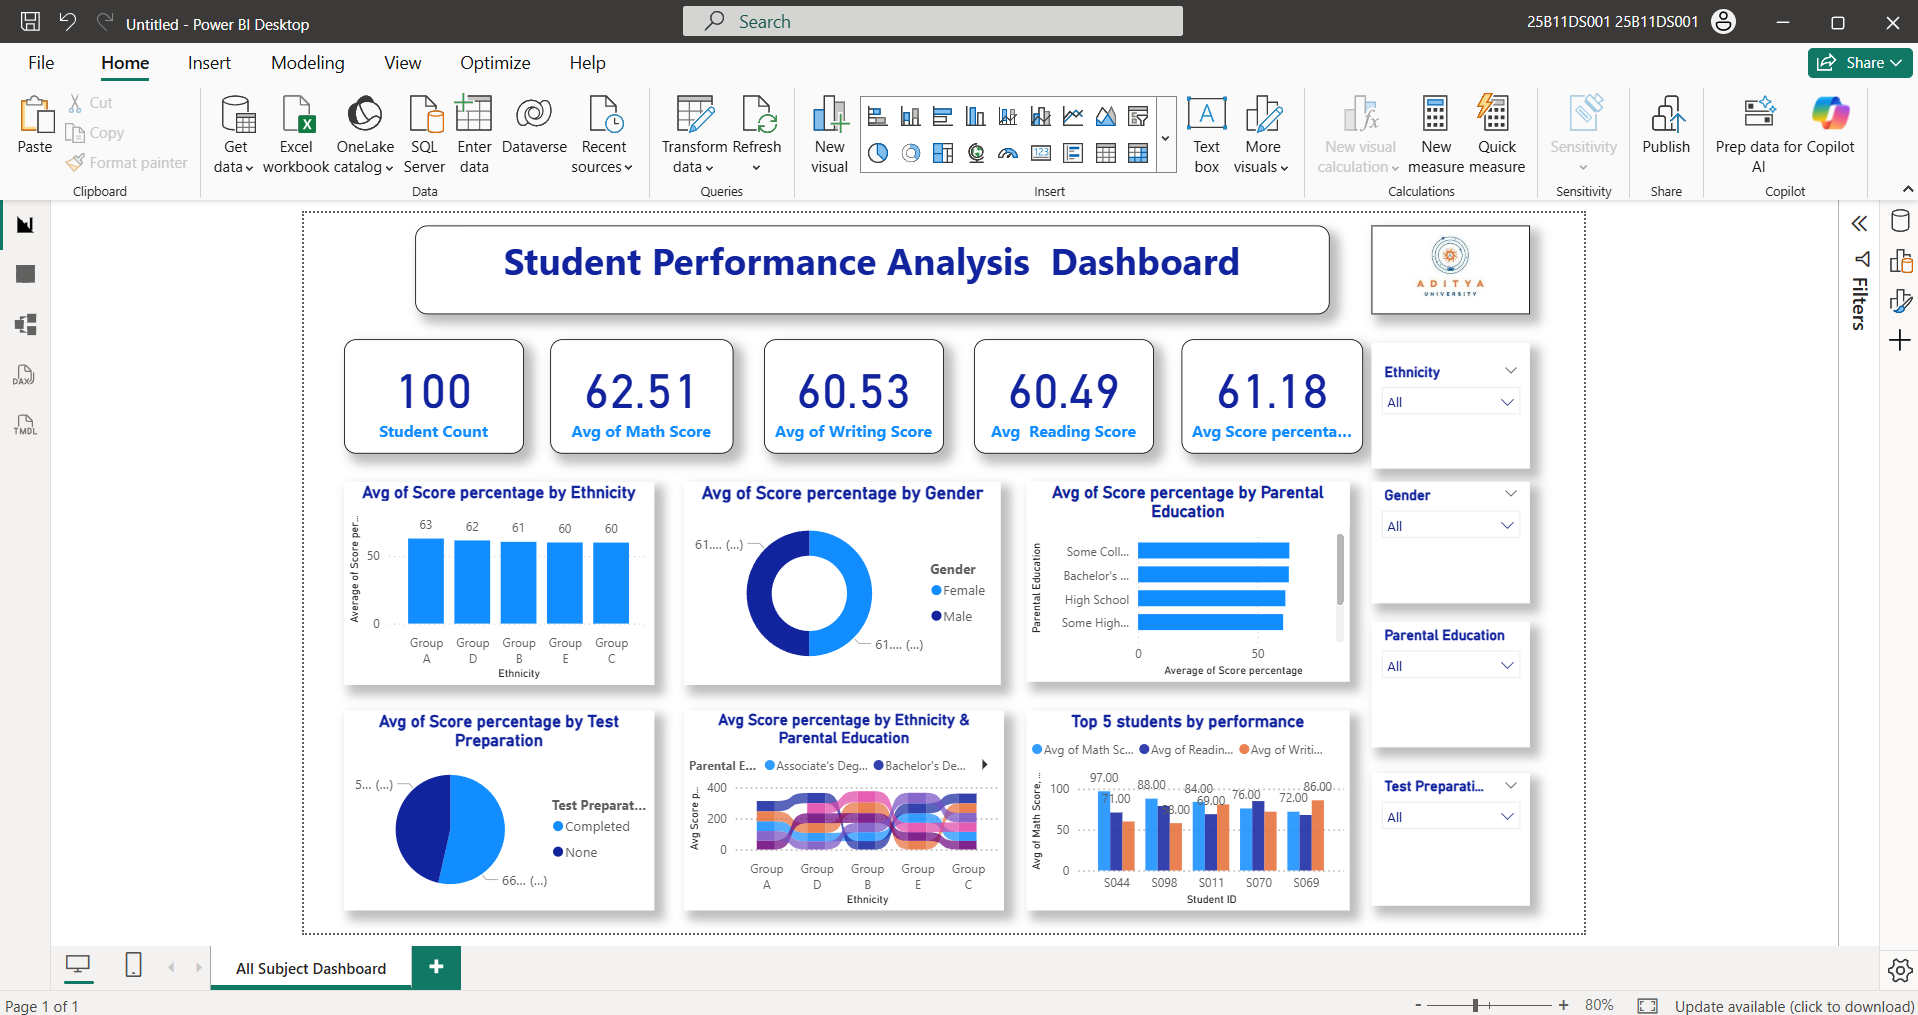

The dashboard page shown, as its layout file describes it:
{"tool":"powerbi","page":{"name":"All Subject Dashboard","canvas":[1280,720],"ordinal":0},"visuals":[{"type":"textbox","box":[111.4,12.9,914.3,88.6],"z":0},{"type":"image","box":[1067.1,12.9,158.6,88.6],"z":1000},{"type":"card","fields":{"Values":["Count(Marks.Student ID)"]},"box":[40,125.7,180,114.3],"z":2000},{"type":"card","fields":{"Values":["Avg(Marks.Score percentage)"]},"box":[877.1,125.7,181.4,114.3],"z":3000},{"type":"card","fields":{"Values":["Avg(Marks.Reading Score)"]},"box":[670,125.7,180,114.3],"z":4000},{"type":"card","fields":{"Values":["Avg(Marks.Writing Score)"]},"box":[460,125.7,180,114.3],"z":5000},{"type":"card","fields":{"Values":["Avg(Marks.Math Score)"]},"box":[245.7,125.7,182.9,114.3],"z":6000},{"type":"slicer","fields":{"Values":["Marks.Ethnicity"]},"box":[1067.1,130,158.6,125.7],"z":7000},{"type":"slicer","fields":{"Values":["Marks.Gender"]},"box":[1067.1,268.6,158.6,121.4],"z":8000},{"type":"columnChart","title":"Avg of Score percentage by Ethnicity","fields":{"Category":["Marks.Ethnicity"],"Y":["Avg(Marks.Score percentage)"]},"box":[40,268.6,310,202.9],"z":8001},{"type":"clusteredBarChart","title":"Avg of Score percentage by Parental Education","fields":{"Category":["Marks.Parental Education"],"Y":["Avg(Marks.Score percentage)"]},"box":[722.9,268.6,322.9,200],"z":8002},{"type":"donutChart","title":"Avg of Score percentage by Gender","fields":{"Category":["Marks.Gender"],"Y":["Avg(Marks.Score percentage)"]},"box":[380,268.6,317.1,202.9],"z":8003},{"type":"slicer","fields":{"Values":["Marks.Parental Education"]},"box":[1067.1,408.6,158.6,125.7],"z":8004},{"type":"pieChart","title":"Avg of Score percentage by Test Preparation","fields":{"Category":["Marks.Test Preparation"],"Y":["Avg(Marks.Score percentage)"]},"box":[40,497.1,310,200],"z":8005},{"type":"ribbonChart","title":"Avg Score percentage by Ethnicity & Parental Education","fields":{"Category":["Marks.Ethnicity"],"Series":["Marks.Parental Education"],"Y":["Avg(Marks.Score percentage)"]},"box":[380,497.1,320,200],"z":8006},{"type":"slicer","fields":{"Values":["Marks.Test Preparation"]},"box":[1067.1,560,158.6,132.9],"z":8007},{"type":"clusteredColumnChart","title":"Top 5 students by performance","fields":{"Category":["Marks.Student ID"],"Y":["Avg(Marks.Math Score)","Avg(Marks.Reading Score)","Avg(Marks.Writing Score)"]},"box":[722.9,497.1,322.9,200],"z":8008}]}

Visuals, with their boxes on the page's 1280x720 design canvas (x1, y1, x2, y2). These are canvas units, not pixel positions in the 1918x1015 screenshot, which may show the page scaled, cropped or inside an application window:
textbox: {"x1": 111, "y1": 13, "x2": 1026, "y2": 102}
image: {"x1": 1067, "y1": 13, "x2": 1226, "y2": 102}
card - Count(Marks.Student ID): {"x1": 40, "y1": 126, "x2": 220, "y2": 240}
card - Avg(Marks.Score percentage): {"x1": 877, "y1": 126, "x2": 1058, "y2": 240}
card - Avg(Marks.Reading Score): {"x1": 670, "y1": 126, "x2": 850, "y2": 240}
card - Avg(Marks.Writing Score): {"x1": 460, "y1": 126, "x2": 640, "y2": 240}
card - Avg(Marks.Math Score): {"x1": 246, "y1": 126, "x2": 429, "y2": 240}
slicer - Marks.Ethnicity: {"x1": 1067, "y1": 130, "x2": 1226, "y2": 256}
slicer - Marks.Gender: {"x1": 1067, "y1": 269, "x2": 1226, "y2": 390}
"Avg of Score percentage by Ethnicity" columnChart: {"x1": 40, "y1": 269, "x2": 350, "y2": 472}
"Avg of Score percentage by Parental Education" clusteredBarChart: {"x1": 723, "y1": 269, "x2": 1046, "y2": 469}
"Avg of Score percentage by Gender" donutChart: {"x1": 380, "y1": 269, "x2": 697, "y2": 472}
slicer - Marks.Parental Education: {"x1": 1067, "y1": 409, "x2": 1226, "y2": 534}
"Avg of Score percentage by Test Preparation" pieChart: {"x1": 40, "y1": 497, "x2": 350, "y2": 697}
"Avg Score percentage by Ethnicity & Parental Education" ribbonChart: {"x1": 380, "y1": 497, "x2": 700, "y2": 697}
slicer - Marks.Test Preparation: {"x1": 1067, "y1": 560, "x2": 1226, "y2": 693}
"Top 5 students by performance" clusteredColumnChart: {"x1": 723, "y1": 497, "x2": 1046, "y2": 697}
